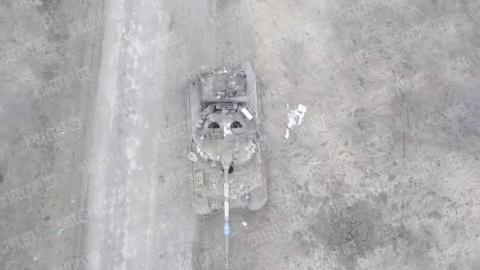tank: (186, 60, 269, 270)
